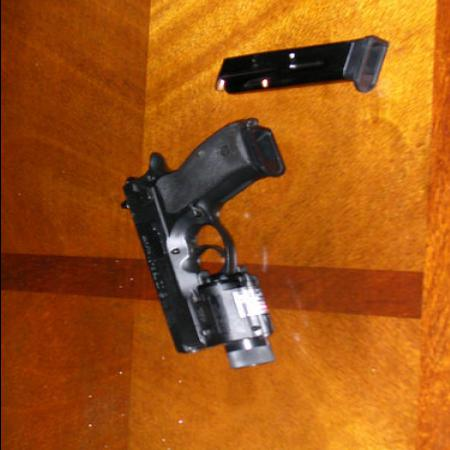Pistol: (116, 118, 284, 376)
